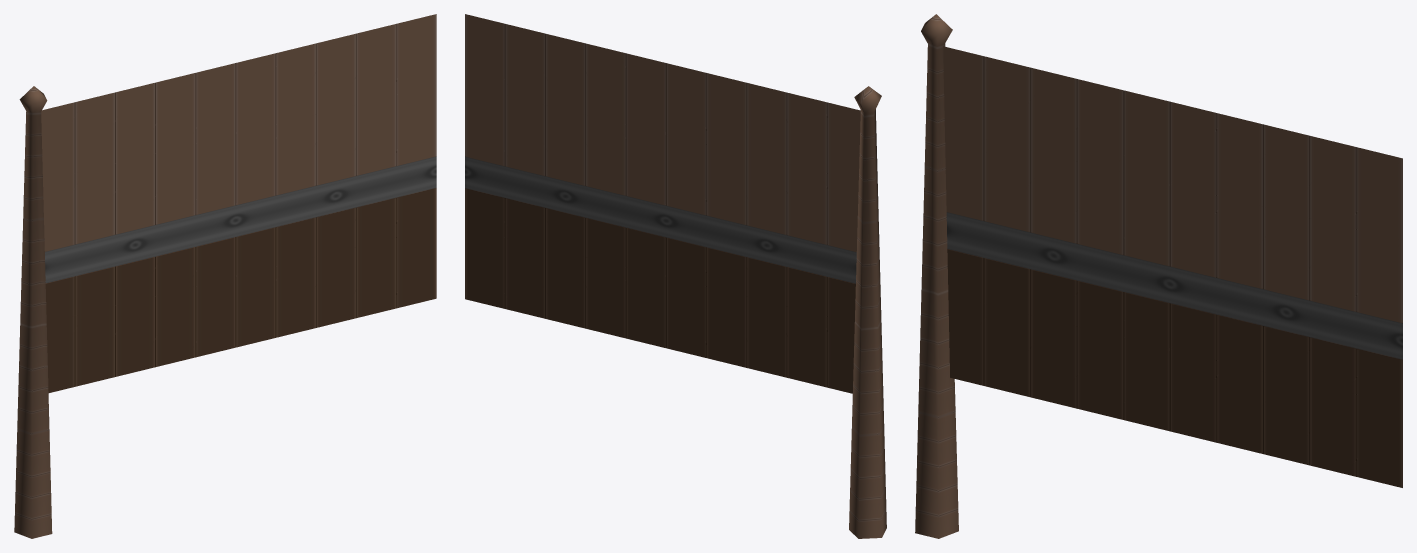
Rendered from Flag.fbx.
The picture shows the model from 3 angles, left to right: view 1: azimuth 30°, elevation 25°; view 2: azimuth 150°, elevation 25°; view 3: azimuth 330°, elevation 25°; orthographic projection. The views are drawn at different scales.
Visible parts, largest first — view 1: Flagpole; view 2: Flagpole; view 3: Flagpole.
Boxes of the visible parts, left/top/right/bottom form: Flagpole: left=14, top=14, right=436, bottom=538; Flagpole: left=465, top=14, right=886, bottom=538; Flagpole: left=915, top=14, right=1402, bottom=538.
Bounding box in the file's own units: 209 × 212 × 15.62.
